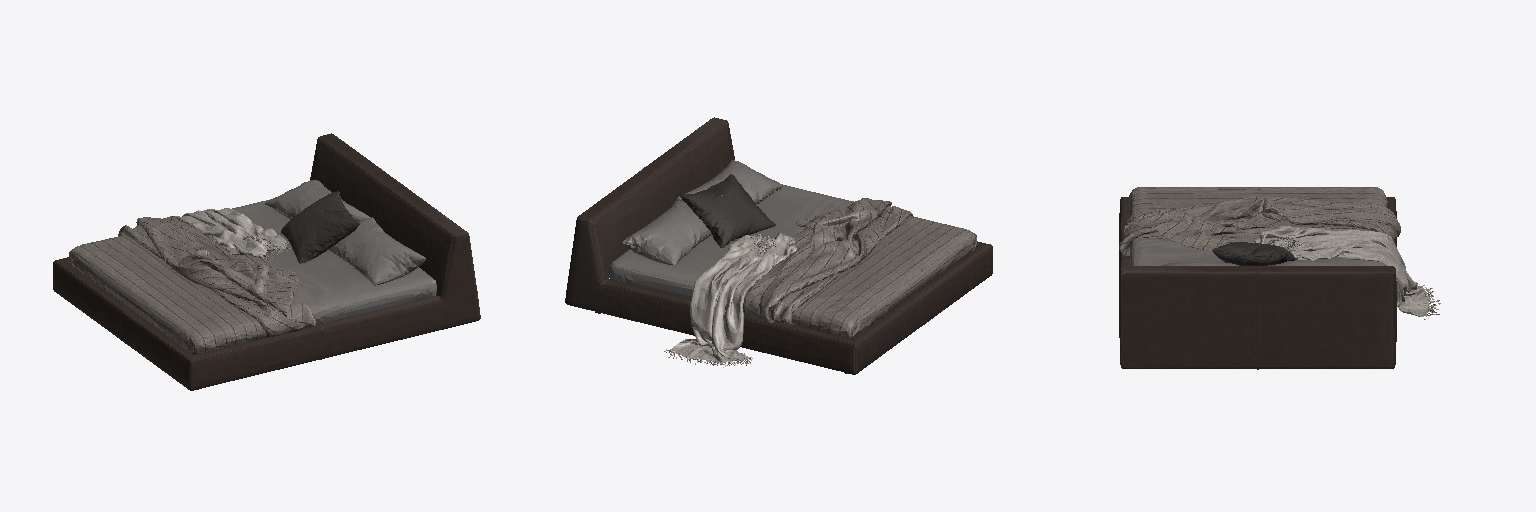
3 renders of one model, left to right at view 1: azimuth 30°, elevation 25°; view 2: azimuth 150°, elevation 25°; view 3: azimuth 270°, elevation 25°, orthographic.
Bounding box in the file's own units: 2.42 × 0.7766 × 2.3.
1 materials, 1 textured.